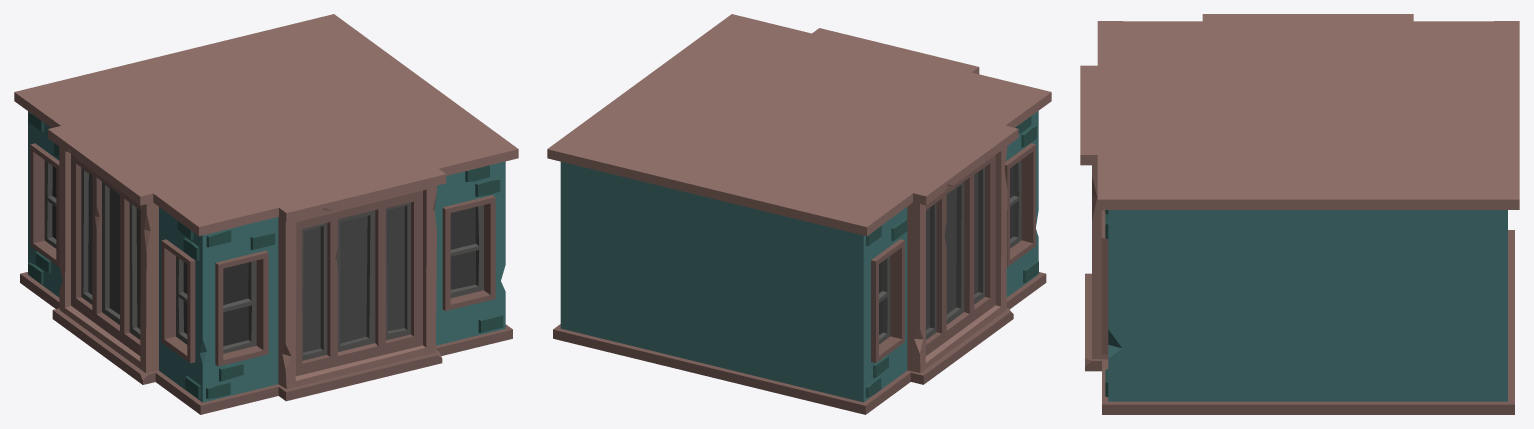
Rendered from SM_Bld_Apartment_Corner_03.fbx.
3 renders of one model, left to right at view 1: azimuth 30°, elevation 25°; view 2: azimuth 150°, elevation 25°; view 3: azimuth 270°, elevation 25°, orthographic. The views are drawn at different scales.
Visible parts, largest first — view 1: Default, window2, window5, window1_, window3; view 2: Default, window5; view 3: Default.
Part boxes in pixels (<box>): Default: <box>14,14,518,414</box>; window2: <box>303,206,404,352</box>; window5: <box>88,173,140,328</box>; window1_: <box>450,207,475,289</box>; window3: <box>223,262,248,346</box>; Default: <box>547,14,1051,414</box>; window5: <box>925,172,978,329</box>; Default: <box>1080,14,1519,414</box>.
Bounding box in the file's own units: 5.49 × 3 × 5.5.
2 materials, 1 textured.
